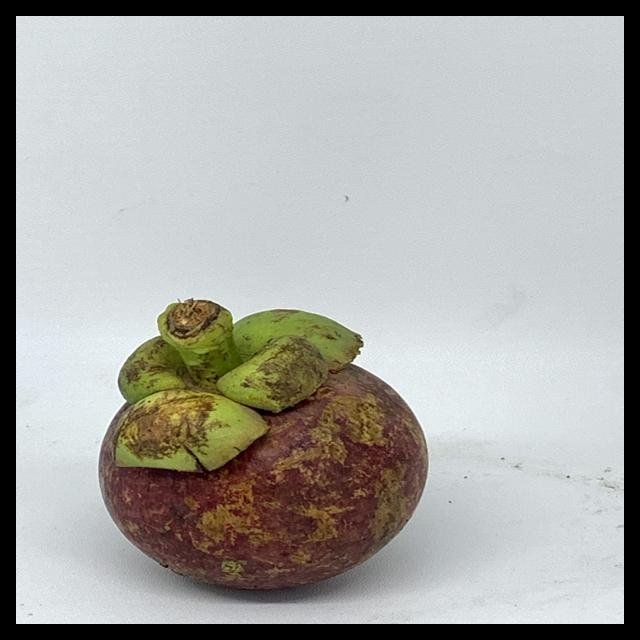mangosteen: (99, 268, 452, 603)
